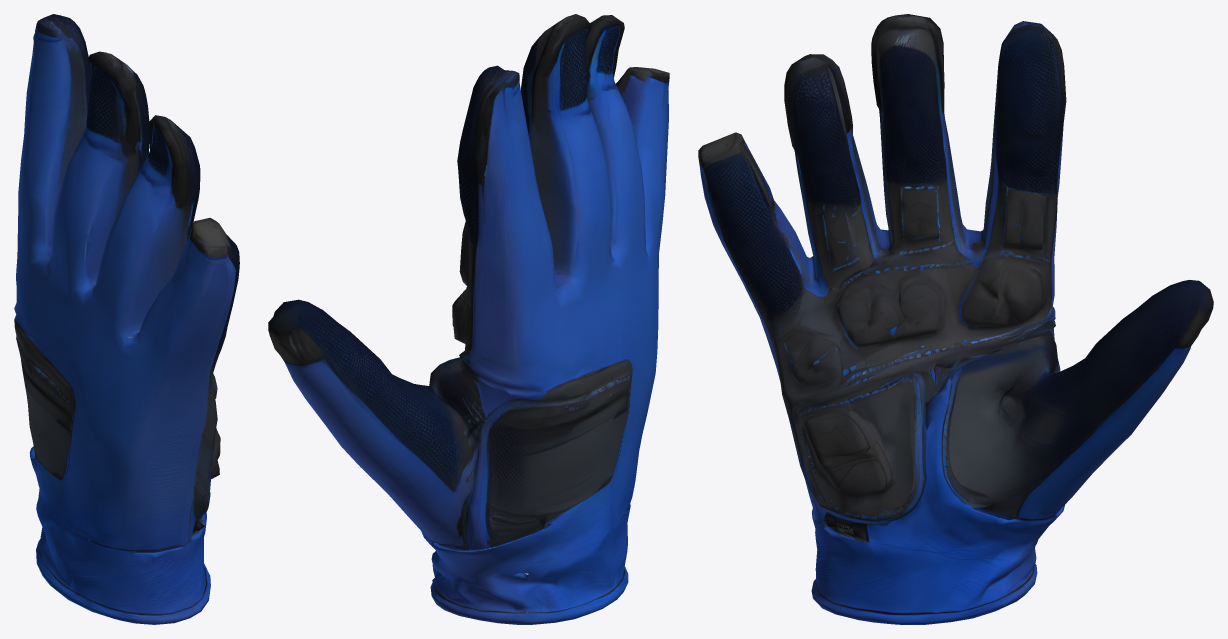
Rendered from tripo-racing-glove.glb.
3 renders of one model, left to right at view 1: azimuth 30°, elevation 25°; view 2: azimuth 150°, elevation 25°; view 3: azimuth 270°, elevation 25°, orthographic. The views are drawn at different scales.
Visible parts, largest first — view 1: tripo_node_5e8ee832-072e-42f9-8edf-a4566c71d52b; view 2: tripo_node_5e8ee832-072e-42f9-8edf-a4566c71d52b; view 3: tripo_node_5e8ee832-072e-42f9-8edf-a4566c71d52b.
Boxes of the visible parts, bbox=[...] form: tripo_node_5e8ee832-072e-42f9-8edf-a4566c71d52b: bbox=[14, 14, 239, 624]; tripo_node_5e8ee832-072e-42f9-8edf-a4566c71d52b: bbox=[268, 14, 669, 624]; tripo_node_5e8ee832-072e-42f9-8edf-a4566c71d52b: bbox=[698, 14, 1213, 624].
Size of the model in its own units: 0.373 by 0.9994 by 0.8215.
Materials: 1 (1 with a texture image).
